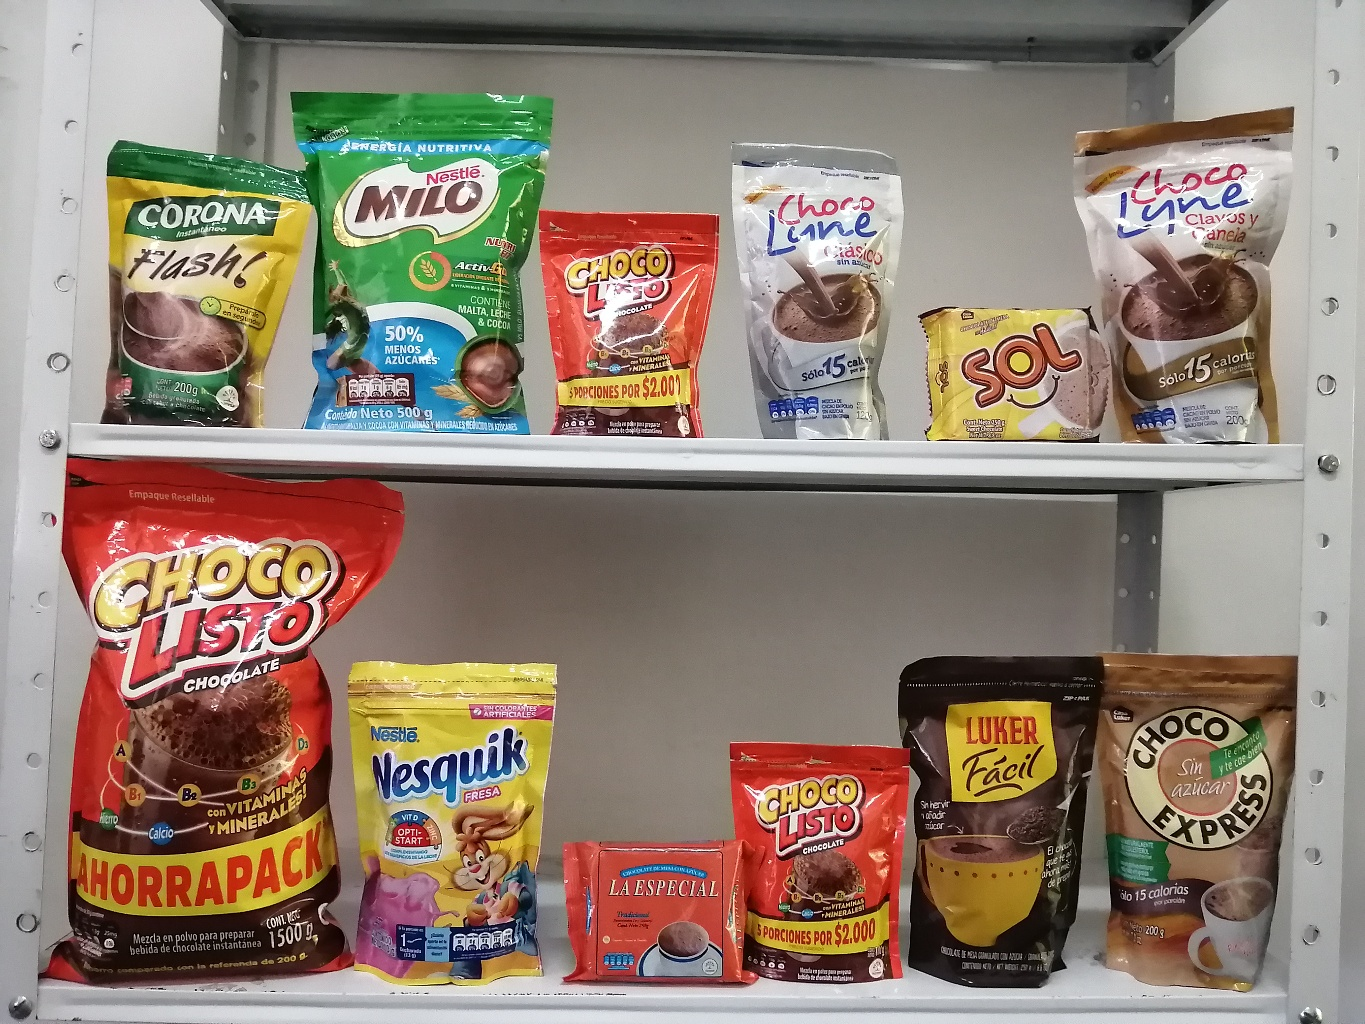COL0170103DYP1,500: (24, 439, 395, 985)
COL0170205DYP50000: (279, 80, 572, 442)
COL0170305DYP20000: (323, 637, 575, 992)
